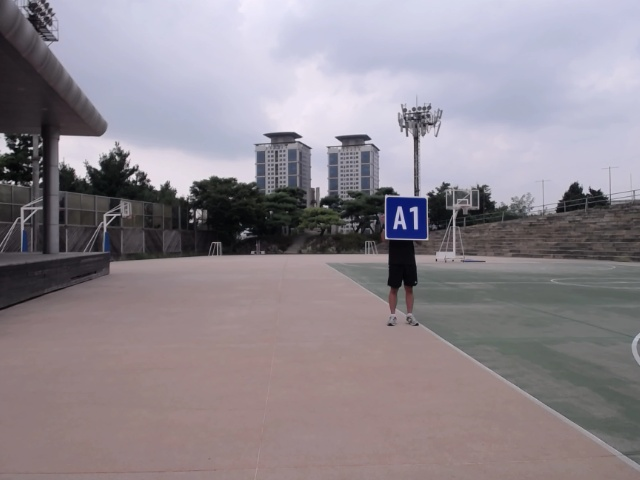delivery_a1: (385, 196, 429, 240)
